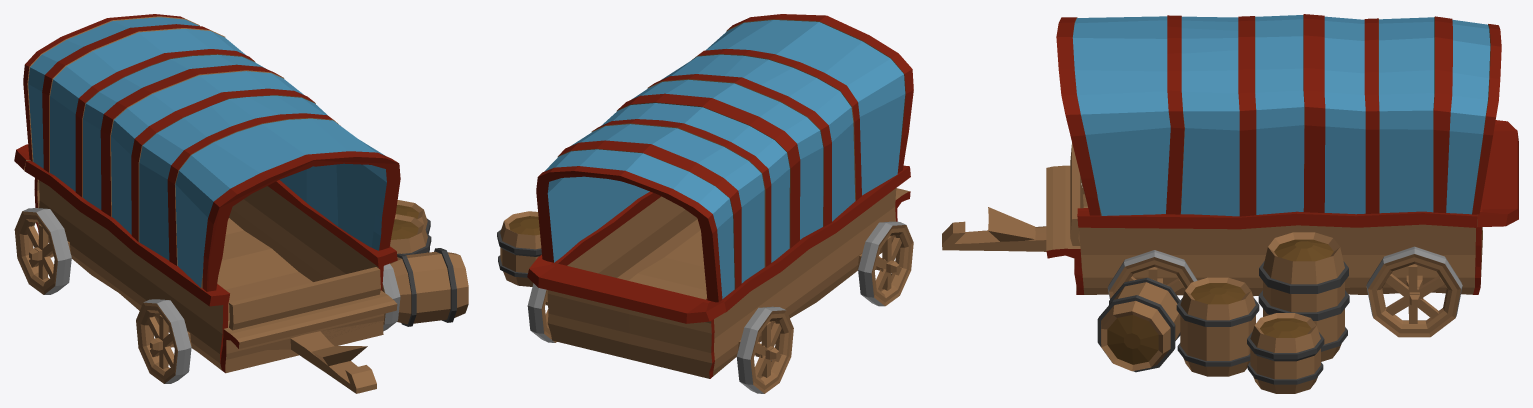
The model's file is Building_LV2_HorseCargo_Blue.fbx.
3 renders of one model, left to right at view 1: azimuth 30°, elevation 25°; view 2: azimuth 150°, elevation 25°; view 3: azimuth 270°, elevation 25°, orthographic. The views are drawn at different scales.
Visible parts, largest first — view 1: Carriage_Blue; view 2: Carriage_Blue; view 3: Carriage_Blue.
Boxes of the visible parts, left/top/right/bottom form: Carriage_Blue: left=14, top=14, right=468, bottom=393; Carriage_Blue: left=497, top=14, right=913, bottom=393; Carriage_Blue: left=942, top=14, right=1518, bottom=393.
Bounding box in the file's own units: 459 × 301 × 635.
2 materials, 2 textured.
